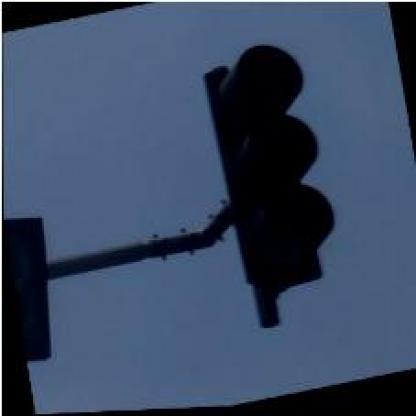green: (200, 34, 342, 300)
